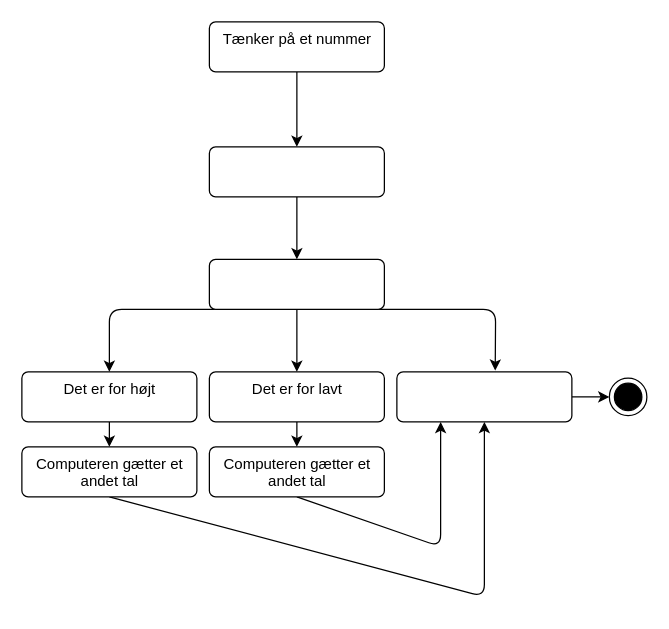
The diagram is 669 pixels wide and 629 high, and some of its shapes have lost their labels. The shapes that lost their labels are listed below. From the top down, each one's box as (x1, y1, x2, y2) in pixels, then its label:
(208, 146, 384, 197): Trykker start
(208, 258, 384, 309): Computeren siger et tal
(396, 371, 572, 422): Det er rigtigt
